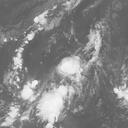cyclone: (59, 56, 81, 78)
